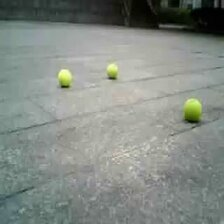tennis: (183, 99, 201, 119), (56, 70, 73, 84), (107, 64, 119, 78)
